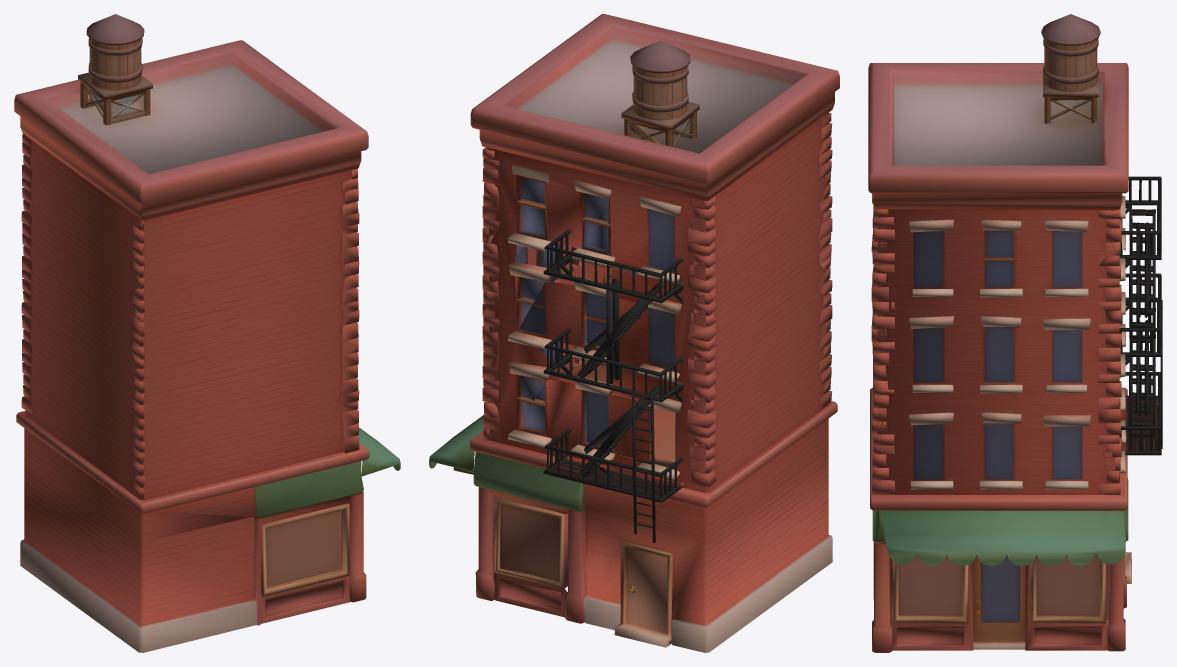
The model's file is building_bodega.glb.
The picture shows the model from 3 angles, left to right: view 1: azimuth 30°, elevation 25°; view 2: azimuth 150°, elevation 25°; view 3: azimuth 270°, elevation 25°; orthographic projection. The views are drawn at different scales.
Visible parts, largest first — view 1: tripo_node_5090f233-4f30-4797-a7b4-f03878cf6d4b; view 2: tripo_node_5090f233-4f30-4797-a7b4-f03878cf6d4b; view 3: tripo_node_5090f233-4f30-4797-a7b4-f03878cf6d4b.
Boxes of the visible parts, x1,y1,x2,y2 form: tripo_node_5090f233-4f30-4797-a7b4-f03878cf6d4b: (14,14,400,652); tripo_node_5090f233-4f30-4797-a7b4-f03878cf6d4b: (429,14,839,652); tripo_node_5090f233-4f30-4797-a7b4-f03878cf6d4b: (868,14,1162,652).
Size of the model in its own units: 0.522 by 0.9995 by 0.4731.
Materials: 1 (1 with a texture image).
